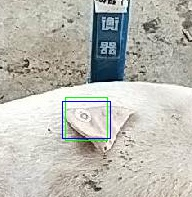text: (65, 97, 107, 140)
